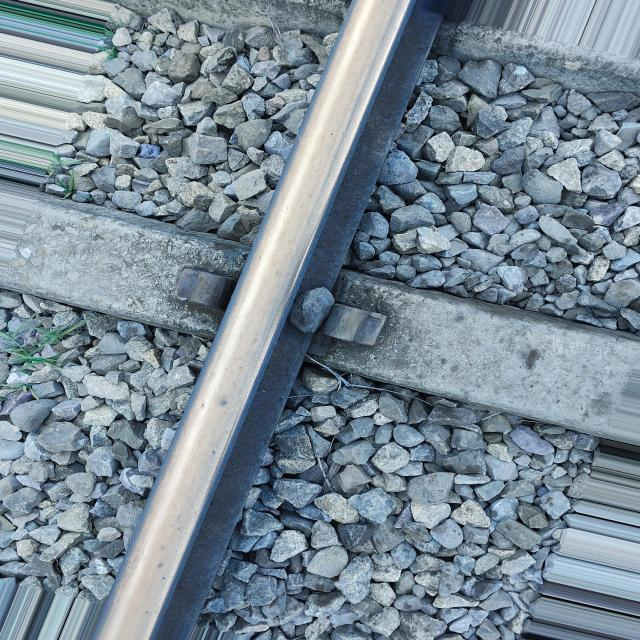Missing Fastener: (318, 278, 419, 354), (154, 259, 251, 326)
